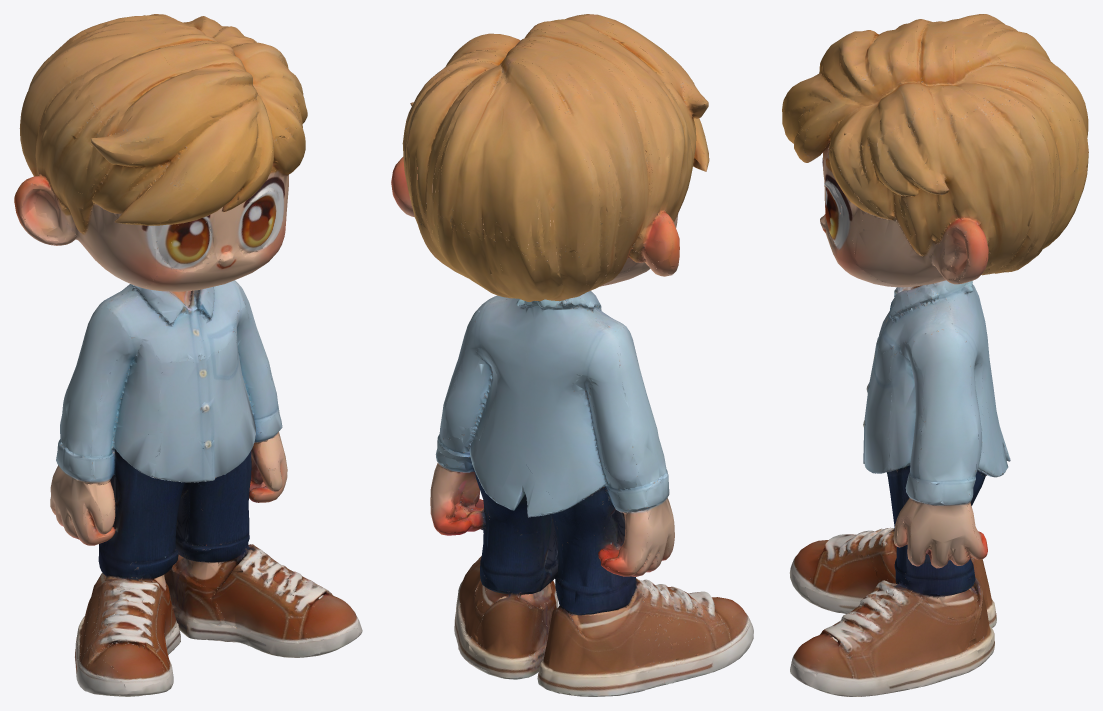
File: boy.glb
3 views of the same model, side by side, from view 1: azimuth 30°, elevation 25°; view 2: azimuth 150°, elevation 25°; view 3: azimuth 270°, elevation 25° (orthographic). The views are drawn at different scales.
Parts seen in each view (by area): view 1: Mesh_0; view 2: Mesh_0; view 3: Mesh_0.
Part boxes in pixels (x1,y1,x2,y2): Mesh_0: (14,14,362,696); Mesh_0: (391,14,753,696); Mesh_0: (782,14,1088,696).
Size of the model in its own units: 0.9595 by 2 by 0.9264.
Materials: 1 (1 with a texture image).
